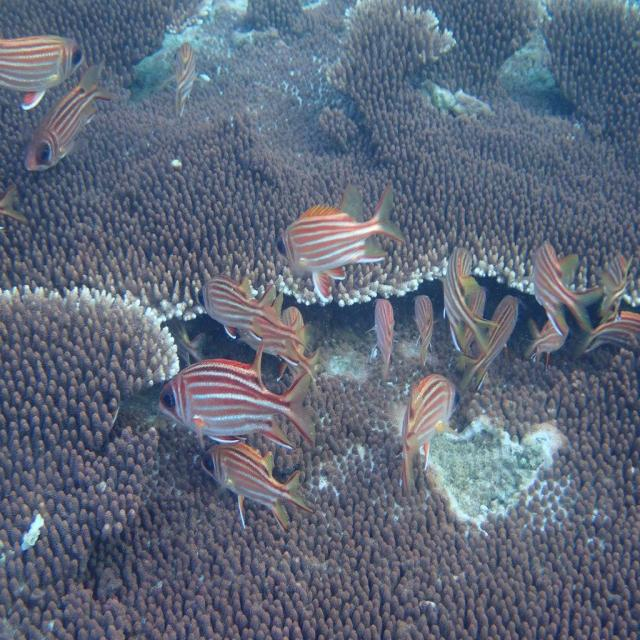Asker Baligi: (122, 362, 325, 452), (275, 180, 406, 304), (174, 441, 315, 539), (17, 93, 114, 175), (182, 267, 278, 344), (515, 232, 591, 325), (464, 285, 522, 398), (393, 378, 459, 467), (0, 23, 83, 86), (370, 300, 406, 370), (409, 293, 443, 356)
